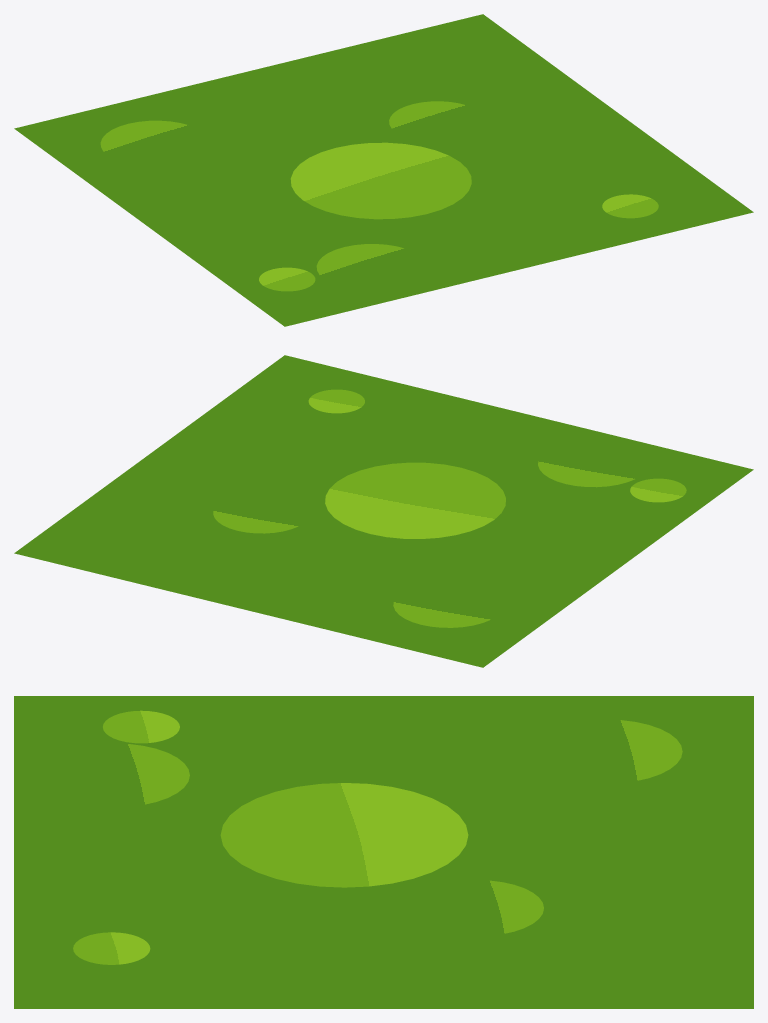
File: Groundpanel_3.fbx
3 renders of one model, top to bottom at view 1: azimuth 30°, elevation 25°; view 2: azimuth 150°, elevation 25°; view 3: azimuth 270°, elevation 25°, orthographic. The views are drawn at different scales.
Parts seen in each view (by area): view 1: Circle.008; view 2: Circle.008; view 3: Circle.008.
Boxes of the visible parts, <box> form: Circle.008: <box>14,14,753,326</box>; Circle.008: <box>14,355,753,667</box>; Circle.008: <box>14,696,753,1008</box>.
Size of the model in its own units: 200 by 1.73 by 200.
